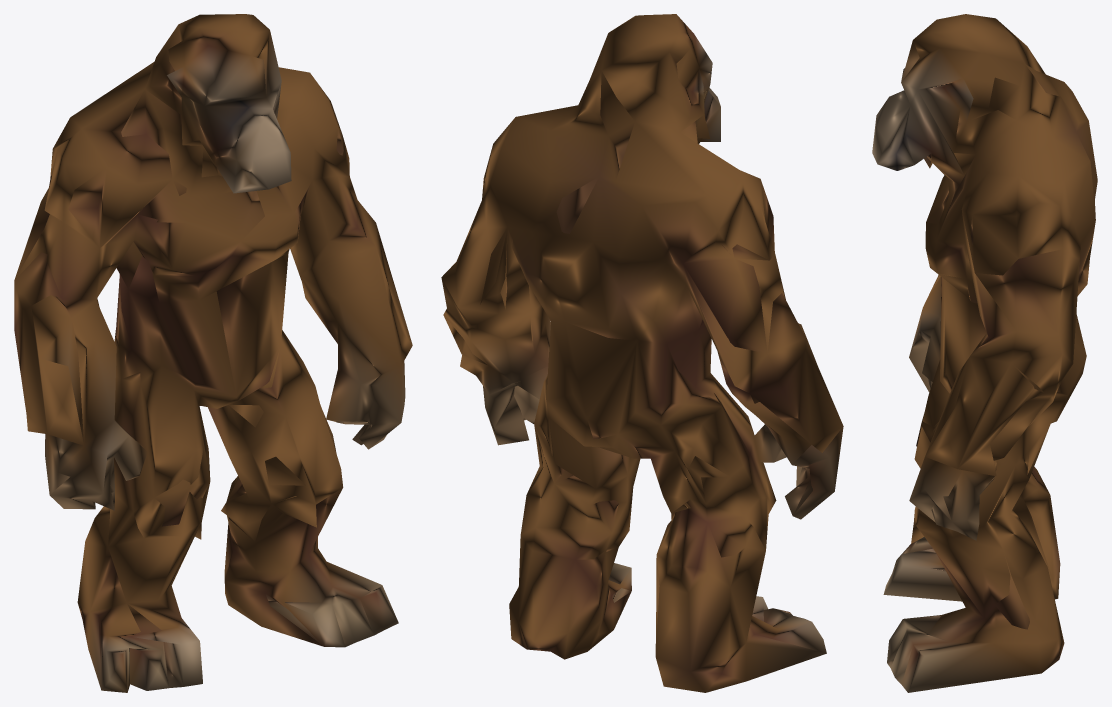
Rendered from gen3d-bigfoot-lod1.glb.
3 renders of one model, left to right at view 1: azimuth 30°, elevation 25°; view 2: azimuth 150°, elevation 25°; view 3: azimuth 270°, elevation 25°, orthographic. The views are drawn at different scales.
Parts seen in each view (by area): view 1: part_0; view 2: part_0; view 3: part_0.
Boxes of the visible parts, left/top/right/bottom form: part_0: left=14, top=14, right=412, bottom=692; part_0: left=441, top=14, right=843, bottom=692; part_0: left=872, top=14, right=1097, bottom=692.
Size of the model in its own units: 0.6127 by 0.9893 by 0.335.
